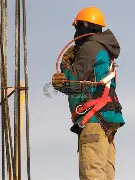safety belt: (58, 48, 125, 133)
